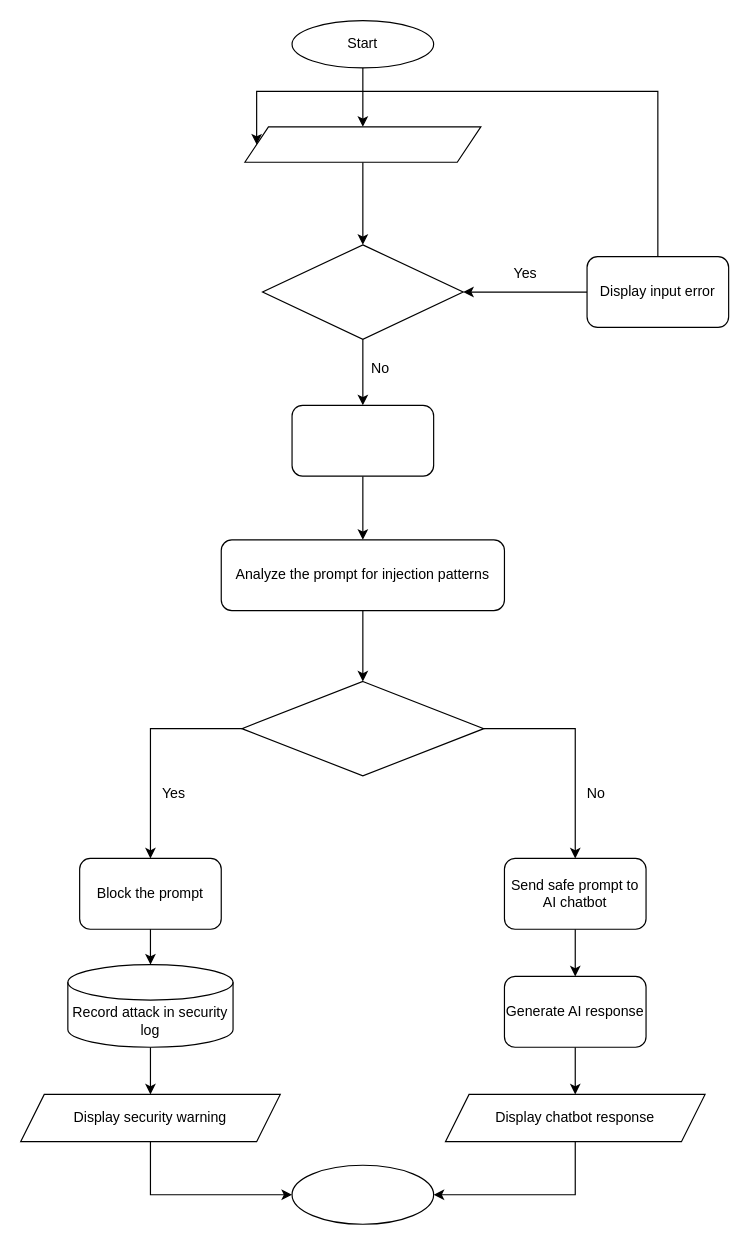
The diagram is 749 pixels wide and 1245 high, and some of its shapes have lost their labels. Here are the shapes that lost their labels. From the top down, the box of each, then its label:
(244, 126, 481, 162): User enter the prompt
(261, 244, 463, 339): Is the prompt empty?
(291, 404, 434, 476): Preprocess the prompt
(241, 680, 484, 776): Prompt injection detected?
(291, 1164, 434, 1224): End
